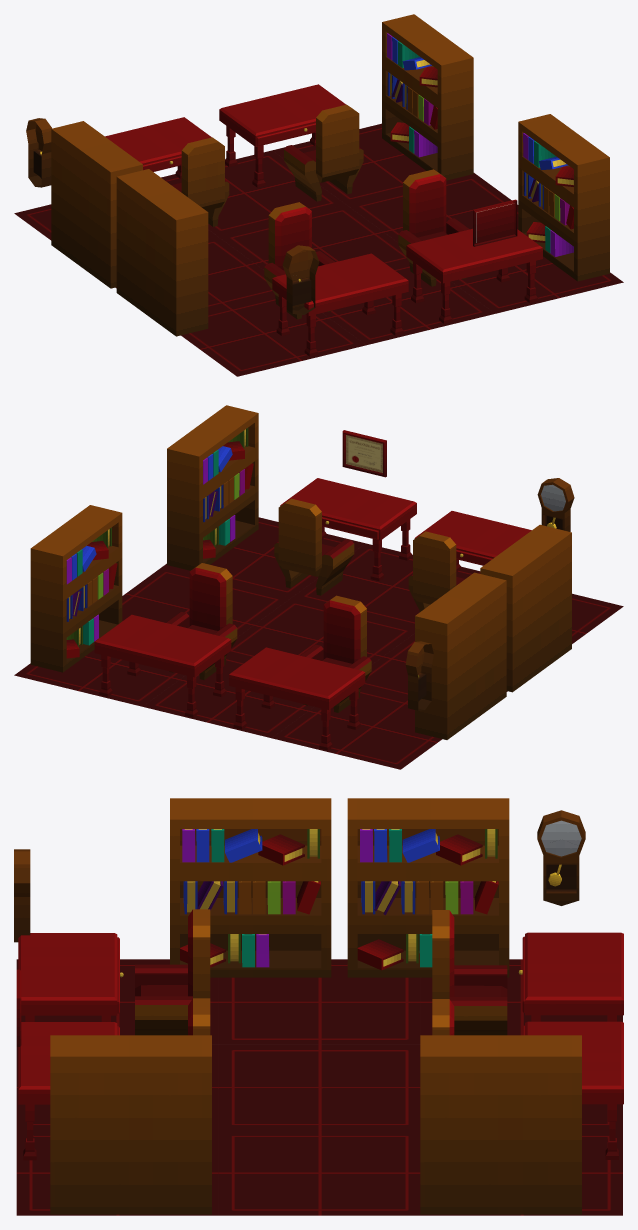
File: s1_Library_v3.fbx
The picture shows the model from 3 angles, top to bottom: view 1: azimuth 30°, elevation 25°; view 2: azimuth 150°, elevation 25°; view 3: azimuth 270°, elevation 25°; orthographic projection. The views are drawn at different scales.
Parts seen in each view (by area): view 1: s1_Library_v3; view 2: s1_Library_v3; view 3: s1_Library_v3.
Part boxes in pixels (left/top/right/bottom): s1_Library_v3: left=14, top=14, right=623, bottom=376; s1_Library_v3: left=14, top=405, right=623, bottom=769; s1_Library_v3: left=14, top=798, right=623, bottom=1215.
Size of the model in its own units: 911 by 259 by 905.
